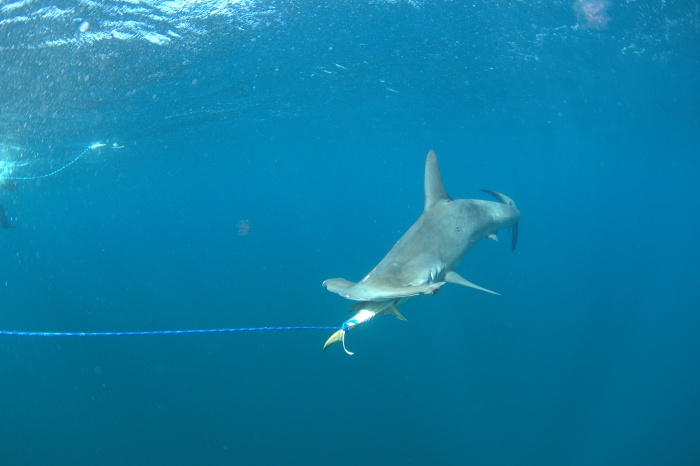Hammer: (300, 140, 534, 314)
